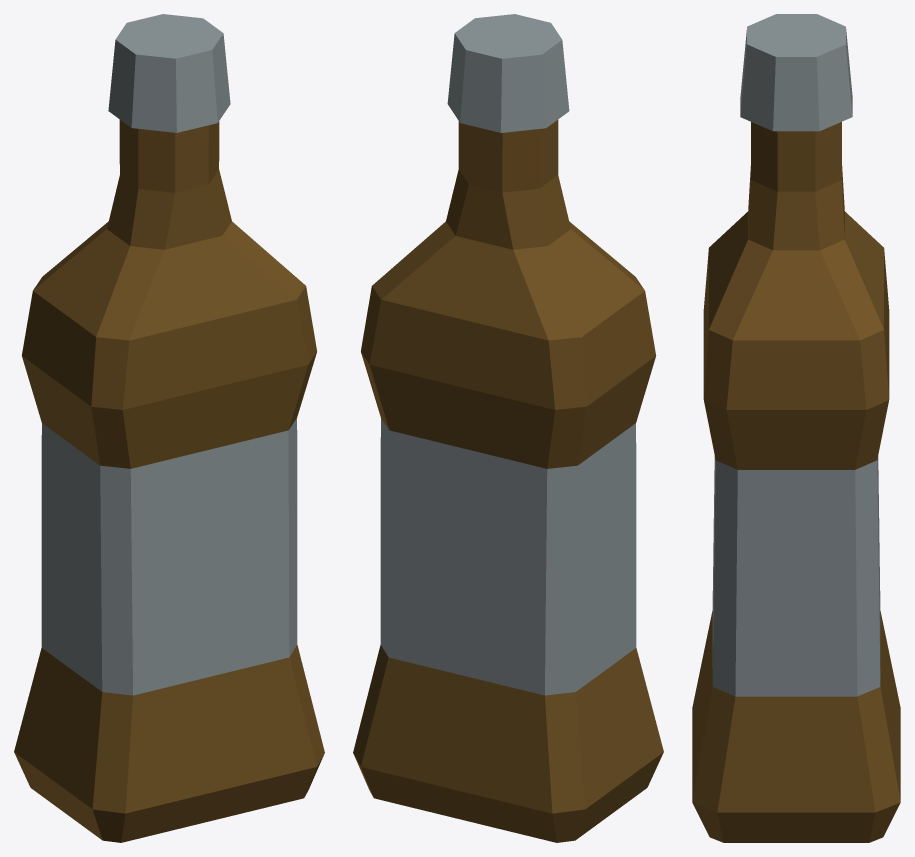
File: BrownSauceBottle.glb
3 renders of one model, left to right at view 1: azimuth 30°, elevation 25°; view 2: azimuth 150°, elevation 25°; view 3: azimuth 270°, elevation 25°, orthographic.
Parts seen in each view (by area): view 1: BrownSauceBottle; view 2: BrownSauceBottle; view 3: BrownSauceBottle.
Boxes of the visible parts, x1,y1,x2,y2 form: BrownSauceBottle: [14, 14, 324, 842]; BrownSauceBottle: [353, 14, 663, 842]; BrownSauceBottle: [692, 14, 900, 842].
Size of the model in its own units: 0.0614 by 0.1901 by 0.0475.
